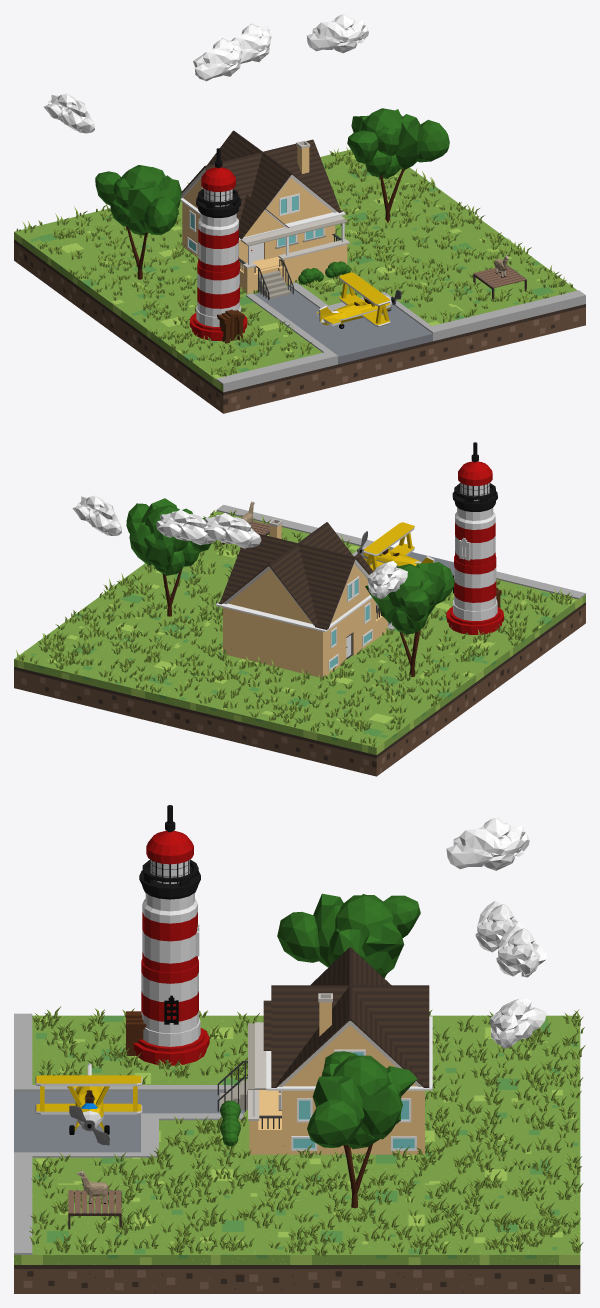
The picture shows the model from 3 angles, top to bottom: view 1: azimuth 30°, elevation 25°; view 2: azimuth 150°, elevation 25°; view 3: azimuth 270°, elevation 25°; orthographic projection. The views are drawn at different scales.
Parts seen in each view (by area): view 1: Cube.006, Circle.012_Grass_0.192, Cube.235, OBJRANDOM_LIGHTHOUSE, Cube.007, tree, tree.001, VEHICLES_AIRPLANE, Cube.009; view 2: Cube.006, Cube.235, Circle.012_Grass_0.192, OBJRANDOM_LIGHTHOUSE, Cube.007, tree.001, tree, VEHICLES_AIRPLANE; view 3: Cube.006, Circle.012_Grass_0.192, Cube.235, OBJRANDOM_LIGHTHOUSE, tree, Cube.007, tree.001, VEHICLES_AIRPLANE, Cube.009.
Part boxes in pixels (x1,y1,x2,y2): Cube.006: [14, 149, 585, 413]; Circle.012_Grass_0.192: [16, 147, 573, 376]; Cube.235: [180, 130, 349, 300]; OBJRANDOM_LIGHTHOUSE: [189, 148, 247, 343]; Cube.007: [44, 14, 368, 133]; tree: [347, 108, 449, 222]; tree.001: [95, 165, 181, 279]; VEHICLES_AIRPLANE: [316, 272, 401, 328]; Cube.009: [473, 265, 526, 299]; Cube.006: [14, 505, 585, 776]; Cube.235: [215, 519, 387, 678]; Circle.012_Grass_0.192: [16, 510, 572, 746]; OBJRANDOM_LIGHTHOUSE: [446, 442, 503, 634]; Cube.007: [72, 495, 407, 599]; tree.001: [365, 562, 454, 676]; tree: [126, 498, 211, 616]; VEHICLES_AIRPLANE: [357, 522, 435, 571]; Cube.006: [14, 1013, 580, 1293]; Circle.012_Grass_0.192: [29, 1006, 585, 1256]; Cube.235: [217, 947, 432, 1154]; OBJRANDOM_LIGHTHOUSE: [126, 805, 209, 1065]; tree: [307, 1051, 417, 1208]; Cube.007: [446, 817, 546, 1048]; tree.001: [277, 893, 420, 978]; VEHICLES_AIRPLANE: [35, 1063, 142, 1145]; Cube.009: [68, 1190, 121, 1229].
Bounding box in the file's own units: 4071 × 2238 × 4040.
42 materials, 4 textured.
